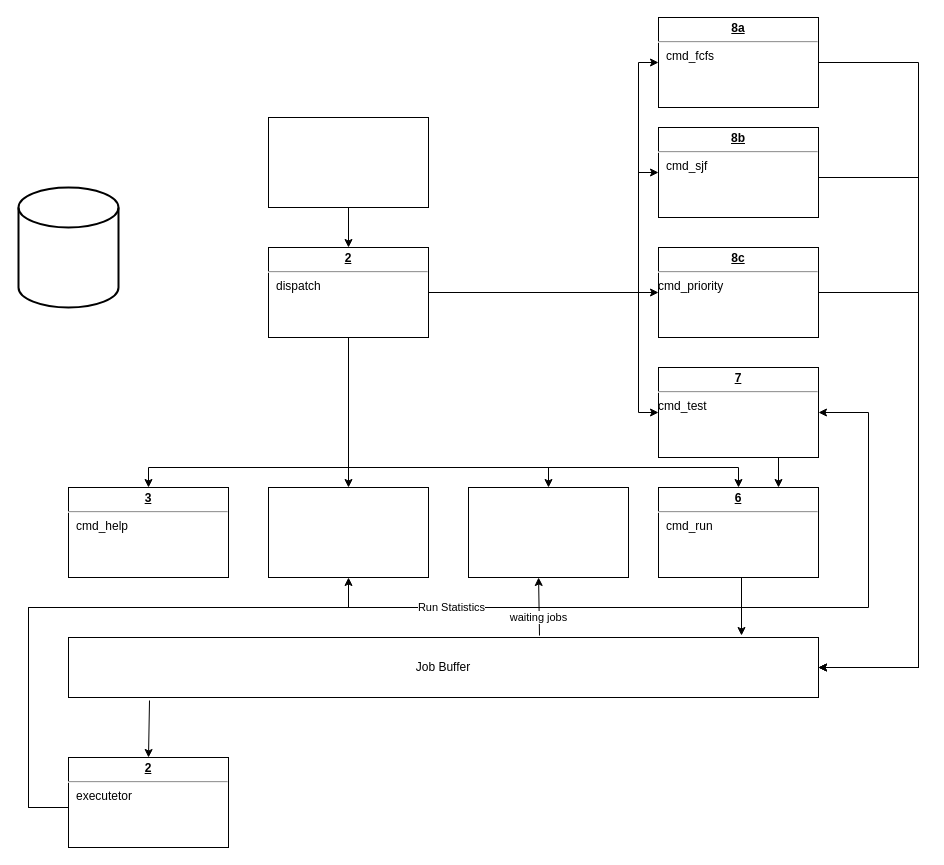
The diagram is 944 pixels wide and 865 high, and some of its shapes have lost their labels. The box of each missing label's shape, as (x1, y1, x2, y2) in pixels:
1 commandline Parser: (268, 116, 428, 208)
4 cmd_quit: (268, 486, 428, 578)
5 cmd_list: (468, 486, 628, 578)
benchmark file (process.c): (17, 186, 119, 308)
